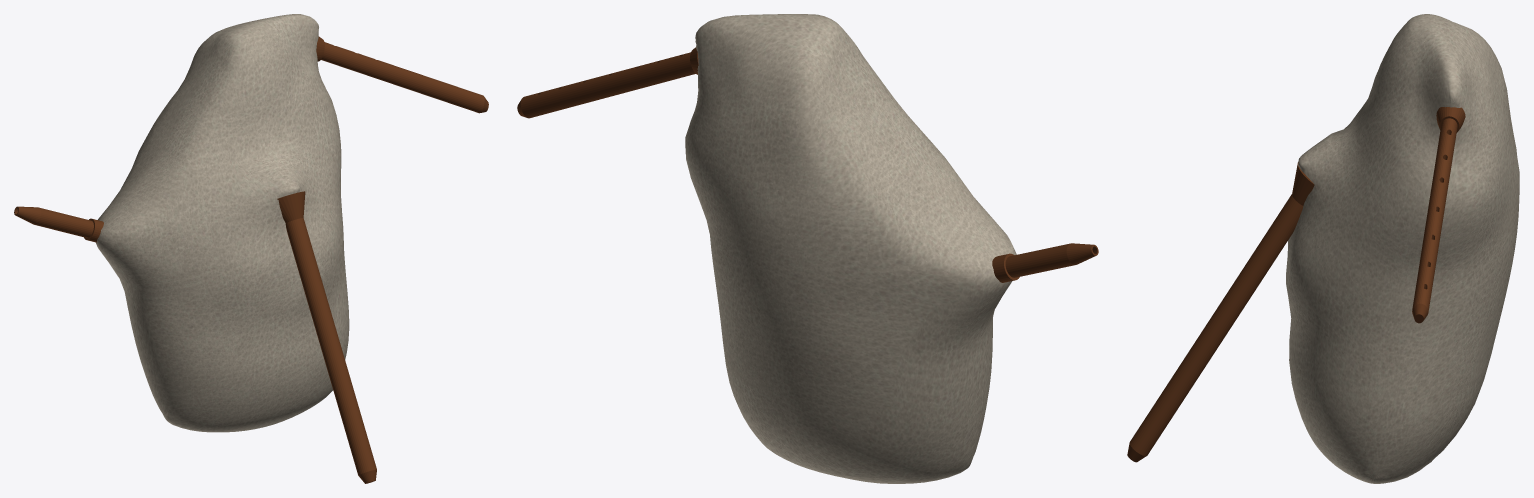
File: gaida.fbx
The picture shows the model from 3 angles, left to right: view 1: azimuth 30°, elevation 25°; view 2: azimuth 150°, elevation 25°; view 3: azimuth 270°, elevation 25°; orthographic projection. The views are drawn at different scales.
Visible parts, largest first — view 1: Plane.022, Plane.021, Plane.019, Plane.020; view 2: Plane.022, Plane.019, Plane.020; view 3: Plane.022, Plane.021, Plane.019.
Part boxes in pixels (<box>): Plane.022: <box>95,14,349,432</box>; Plane.021: <box>277,191,376,483</box>; Plane.019: <box>316,36,488,113</box>; Plane.020: <box>14,206,103,242</box>; Plane.022: <box>685,14,1016,483</box>; Plane.019: <box>517,47,698,118</box>; Plane.020: <box>992,243,1098,282</box>; Plane.022: <box>1286,14,1519,483</box>; Plane.021: <box>1127,162,1314,462</box>; Plane.019: <box>1412,107,1465,323</box>.
Bounding box in the file's own units: 121 × 92.25 × 72.87.
